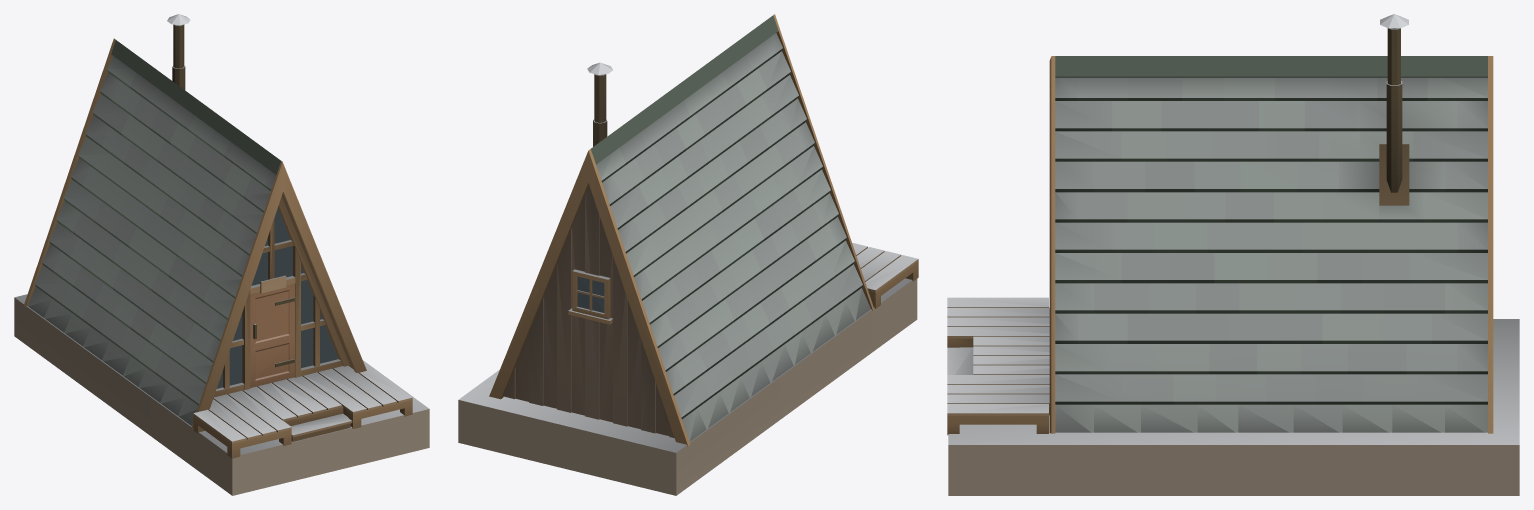
Rendered from aframe.glb.
3 views of the same model, side by side, from view 1: azimuth 30°, elevation 25°; view 2: azimuth 150°, elevation 25°; view 3: azimuth 270°, elevation 25° (orthographic). The views are drawn at different scales.
Parts seen in each view (by area): view 1: aframe; view 2: aframe; view 3: aframe.
Boxes of the visible parts, bbox=[...] form: aframe: bbox=[14, 14, 429, 495]; aframe: bbox=[458, 14, 918, 495]; aframe: bbox=[947, 14, 1519, 495].
Bounding box in the file's own units: 5.48 × 8.7 × 10.48.
